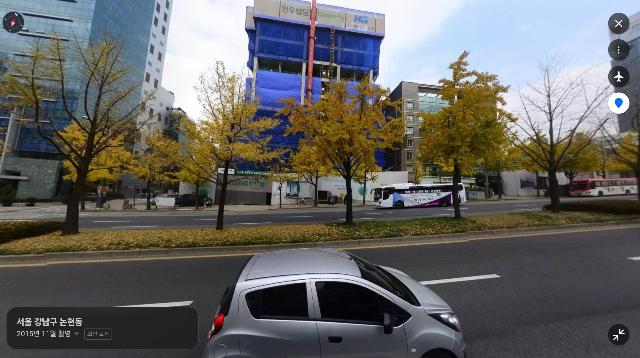ginkgo: (0, 25, 158, 236), (165, 57, 293, 232), (400, 49, 522, 219), (273, 76, 408, 227), (54, 113, 135, 211), (120, 123, 191, 211), (289, 143, 342, 208)
